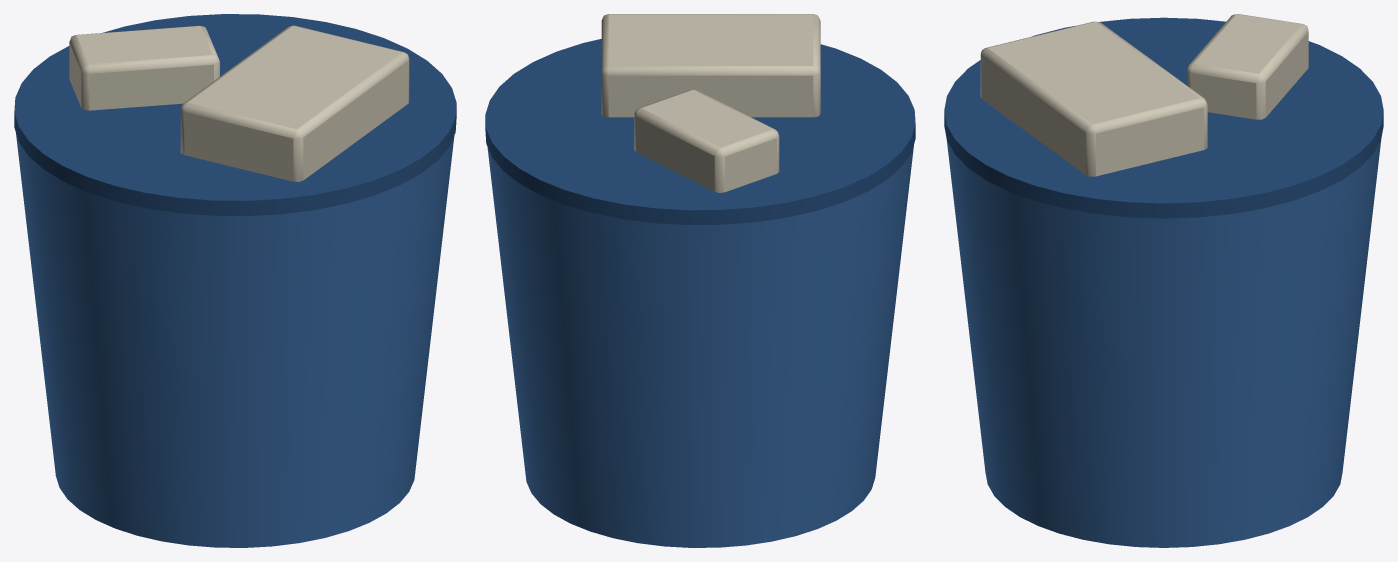
The model's file is XoChauKhanLau.glb.
3 views of the same model, side by side, from view 1: azimuth 30°, elevation 25°; view 2: azimuth 150°, elevation 25°; view 3: azimuth 270°, elevation 25° (orthographic). The views are drawn at different scales.
Parts seen in each view (by area): view 1: XoChauKhanLau; view 2: XoChauKhanLau; view 3: XoChauKhanLau.
Boxes of the visible parts, left/top/right/bottom form: XoChauKhanLau: left=14, top=14, right=456, bottom=547; XoChauKhanLau: left=485, top=14, right=915, bottom=547; XoChauKhanLau: left=944, top=14, right=1383, bottom=547.
Bounding box in the file's own units: 0.3148 × 0.325 × 0.3148.
